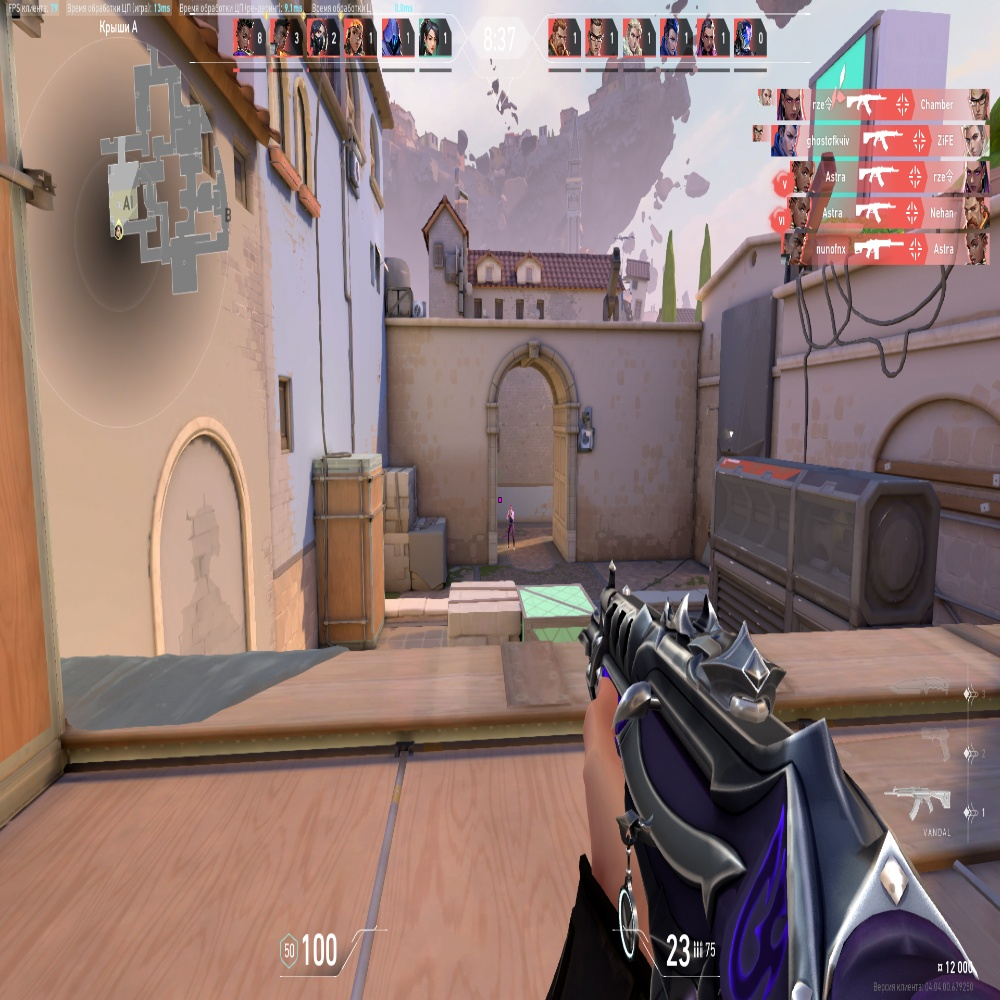body: (507, 513, 514, 525)
head: (509, 505, 512, 511)
